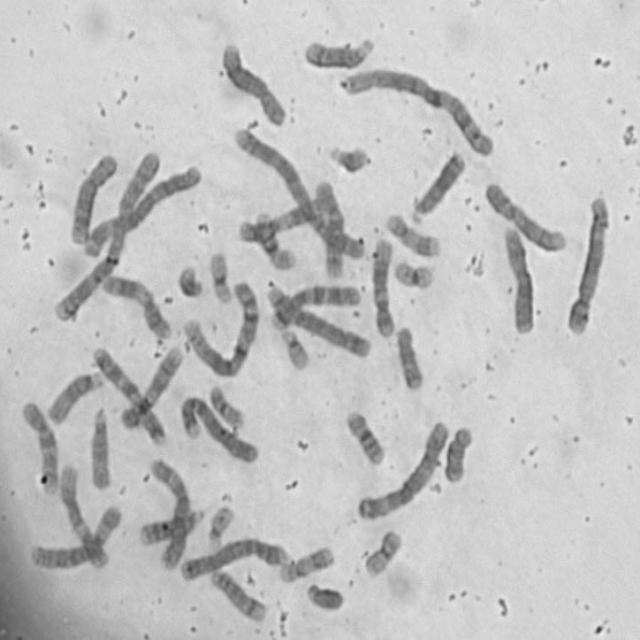A1: (336, 62, 498, 160), (178, 274, 262, 381)
A2: (50, 143, 166, 324), (226, 119, 366, 267)
A3: (77, 158, 205, 255), (353, 414, 452, 523)
B4: (175, 389, 261, 467), (176, 531, 292, 583)
B5: (263, 278, 373, 362), (564, 189, 613, 338)
C10: (16, 395, 61, 497), (310, 173, 348, 280)
C11: (98, 268, 175, 341), (232, 192, 326, 244)
C12: (56, 458, 111, 571), (368, 232, 398, 339)
C6: (26, 500, 124, 571), (146, 453, 193, 573)
C7: (87, 340, 168, 446), (266, 278, 363, 332)
C8: (217, 38, 288, 128), (66, 146, 120, 246)
C9: (480, 176, 569, 255), (116, 341, 186, 431)
D13: (406, 144, 468, 226), (134, 502, 207, 548)
D14: (206, 564, 269, 624), (300, 31, 376, 71)
D15: (43, 365, 106, 426), (86, 401, 114, 492)
E16: (340, 404, 388, 468), (250, 206, 297, 271)
E17: (381, 208, 443, 259), (275, 540, 337, 584)
E18: (392, 320, 426, 392), (441, 420, 477, 485)
F19: (205, 247, 235, 306), (390, 254, 437, 291)
F20: (360, 524, 405, 580), (205, 380, 247, 430)
G21: (324, 138, 373, 175), (174, 259, 206, 299)
G22: (203, 492, 237, 550), (277, 323, 312, 372)
X: (498, 220, 538, 336)
Y: (303, 578, 347, 613)
